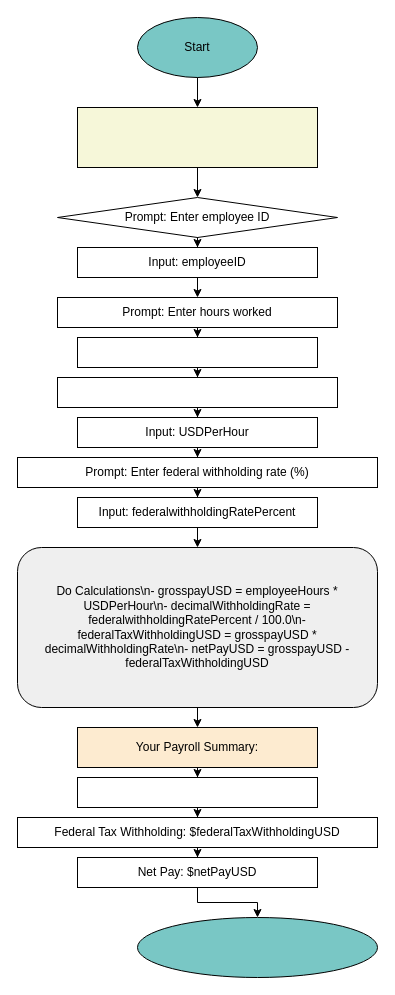
Image size: 395x995. Some labels were removed from this diagram. Here are the shapes that lost their labels. From the top down, the centre of each, then its label:
point (197, 137): Welcome\nWelcome to my Weekly Payroll program!!
point (197, 352): Input: employeeHours
point (197, 392): Prompt: Enter hourly rate
point (197, 792): Gross Pay: $grosspayUSD
point (257, 947): End\nThank you for using my Weekly Payroll program!!
